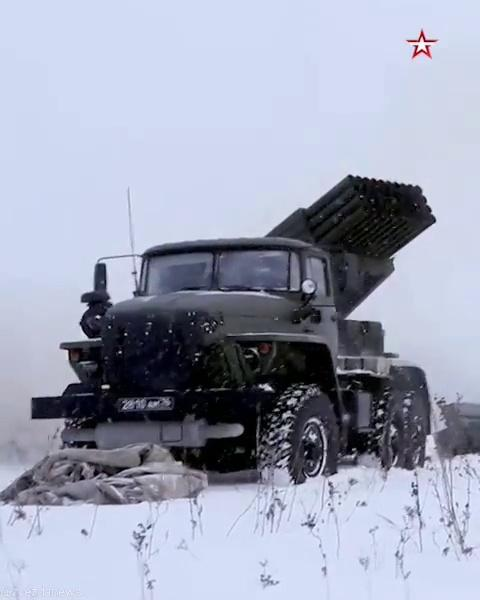MIL_SAM_TEL: (49, 170, 438, 484)
